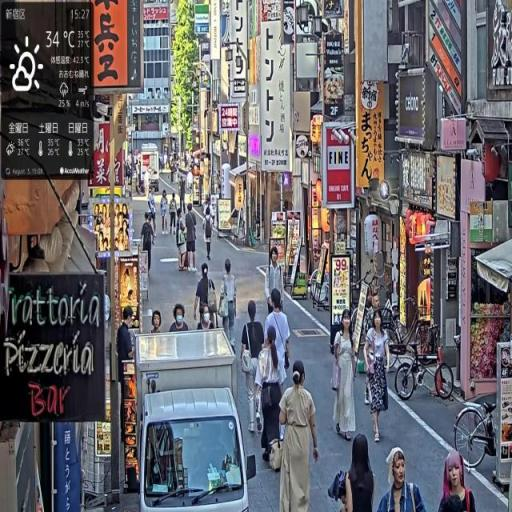person: (279, 359, 320, 512), (255, 331, 286, 469), (332, 309, 360, 444), (365, 307, 392, 445), (240, 299, 267, 434), (378, 446, 430, 512), (343, 433, 377, 512), (439, 451, 479, 512), (194, 264, 219, 333), (219, 259, 238, 346), (184, 204, 198, 276), (142, 213, 156, 279), (169, 302, 191, 334), (205, 205, 216, 264), (161, 191, 170, 237)
